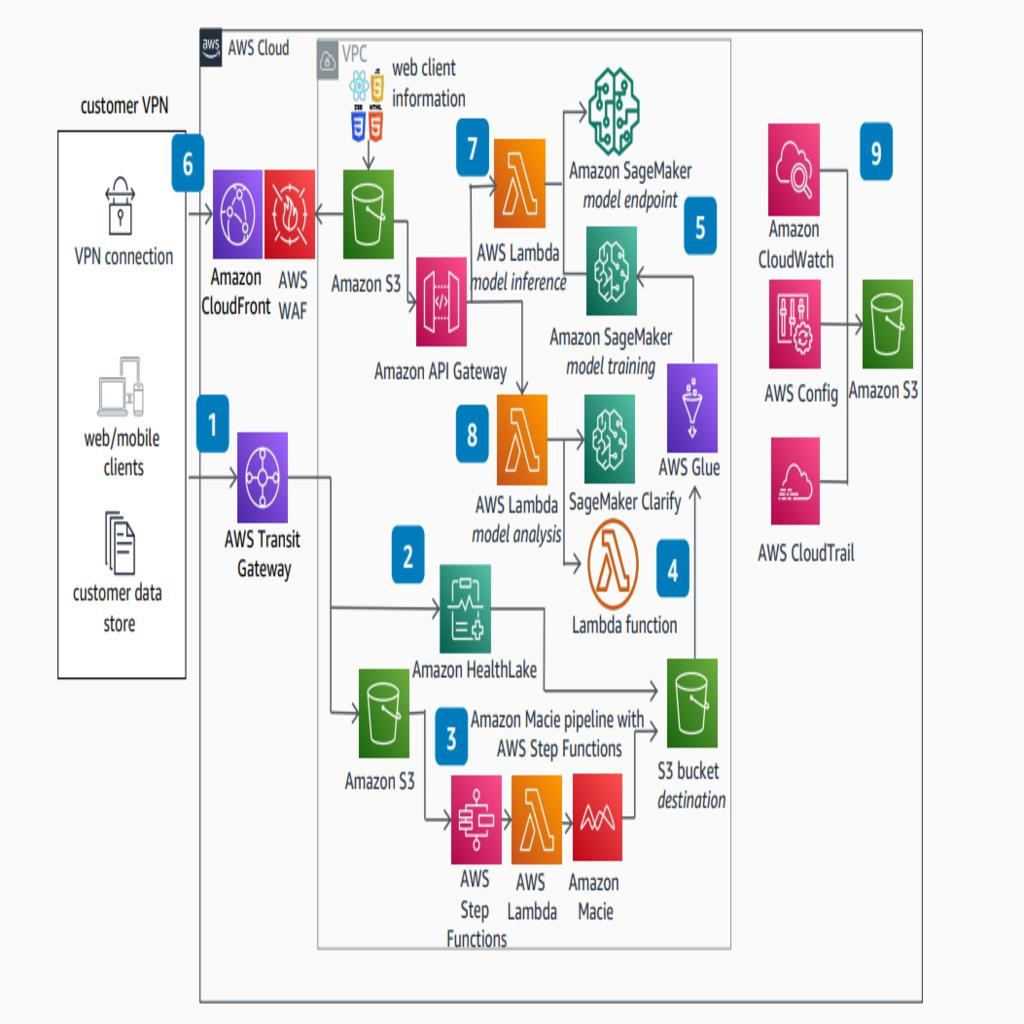actor: (100, 371, 142, 438), (100, 174, 142, 240), (100, 520, 142, 586)
api_gateway: (209, 180, 252, 246), (417, 266, 460, 332)
compute: (589, 232, 632, 300), (454, 788, 498, 854), (589, 75, 632, 142), (589, 398, 632, 464), (589, 530, 632, 596), (516, 788, 559, 854), (496, 149, 538, 216), (496, 407, 538, 474)
data_flow: (327, 481, 332, 942), (327, 478, 332, 730), (846, 169, 850, 476), (490, 686, 608, 690), (686, 550, 690, 662), (332, 602, 436, 606), (608, 142, 613, 210), (514, 336, 520, 392), (608, 300, 613, 366), (686, 435, 690, 507), (460, 296, 503, 302), (542, 560, 584, 566), (278, 474, 340, 478), (514, 217, 520, 258), (402, 818, 442, 824), (166, 210, 202, 216), (542, 180, 584, 185), (542, 438, 584, 443), (816, 166, 847, 172), (318, 210, 348, 216), (436, 233, 441, 269), (632, 399, 668, 404), (542, 264, 584, 268), (816, 320, 847, 325), (392, 210, 417, 216), (166, 474, 202, 478), (632, 686, 668, 690), (816, 474, 847, 478), (346, 709, 361, 714)
database_storage: (442, 570, 486, 638), (666, 368, 710, 435), (666, 668, 710, 735), (864, 289, 908, 356), (349, 180, 392, 246), (360, 678, 402, 745)
network_security: (772, 442, 815, 510), (270, 180, 314, 246), (576, 788, 620, 854), (772, 289, 815, 356), (772, 136, 815, 202), (240, 438, 282, 504)
trust_boundary: (200, 30, 922, 994), (318, 36, 732, 958), (57, 131, 185, 678)
